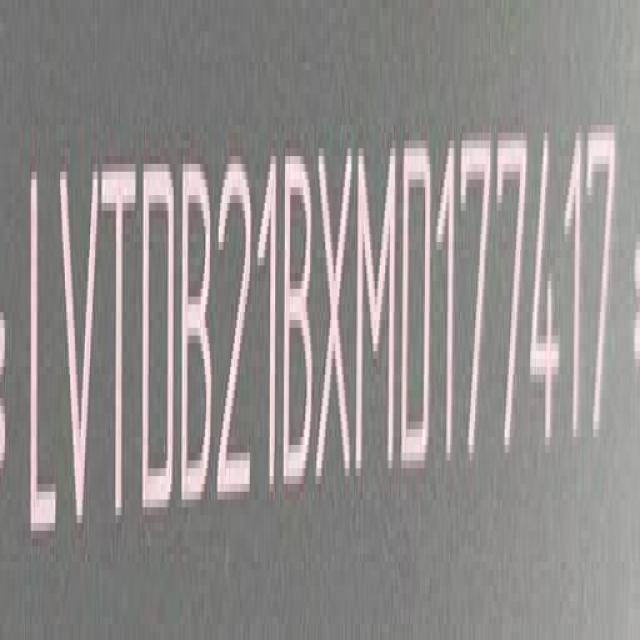1: (260, 149, 282, 512), (562, 123, 585, 458), (436, 130, 456, 482)
2: (216, 154, 256, 514)
4: (529, 112, 562, 460)
7: (461, 127, 495, 481), (498, 123, 530, 467), (589, 117, 621, 455)
B: (182, 156, 216, 524), (285, 143, 317, 500)
D: (138, 155, 176, 526), (402, 131, 434, 483)
L: (21, 155, 59, 555)
M: (358, 138, 402, 491)
T: (103, 155, 133, 537)
V: (56, 156, 100, 554)
X: (316, 138, 357, 496)
